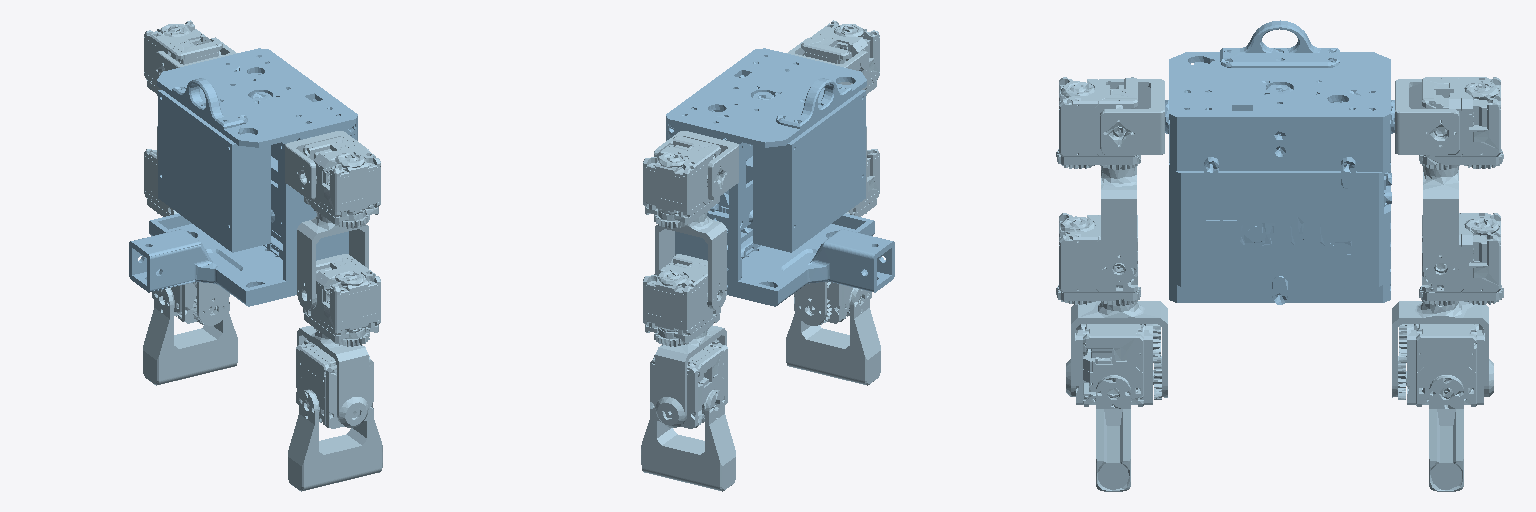
The robot description file, URDF, robot "toddlerbot_teleop":
<?xml version="1.0" ?><robot name="toddlerbot_teleop">  
  <link name="torso">    
    <visual>      
      <origin xyz="0 0 0" rpy="0 -0 0"/>      
      <geometry>        
        <mesh filename="package:///meshes/torso_visual.stl"/>        
      </geometry>      
      <material name="torso_material">        
        <color rgba="0.63866204066417398 0.79042612983052984443 0.89591918647189450198 1.0"/>        
      </material>      
    </visual>    
    <collision>      
      <origin xyz="0 0 0" rpy="0 -0 0"/>      
      <geometry>        
        <mesh filename="package:///meshes/torso_collision.stl"/>        
      </geometry>      
    </collision>    
    <inertial>      
      <origin xyz="-0.0025146157670445038607 -0.003462452547209261388 0.0655293959220907829" rpy="0 0 0"/>      
      <mass value="1.085065963101202513"/>      
      <inertia ixx="0.0028272039396820131119" ixy="7.4126802941129710614e-05" ixz="1.8774159564661221055e-05" iyy="0.002249597677268255682" iyz="-2.9332579430688765992e-05" izz="0.0023020777581455828011"/>      
    </inertial>    
  </link>  

  <link name="left_arm_teleop">    
    <visual>      
      <origin xyz="0 0 0" rpy="0 -0 0"/>      
      <geometry>        
        <mesh filename="package:///meshes/left_arm_teleop_visual.stl"/>        
      </geometry>      
      <material name="left_arm_teleop_material">        
        <color rgba="0.72664946328722046509 0.83742241919811932771 0.9009251939461877523 1.0"/>        
      </material>      
    </visual>    
    <collision>      
      <origin xyz="0 0 0" rpy="0 -0 0"/>      
      <geometry>        
        <mesh filename="package:///meshes/left_arm_teleop_collision.stl"/>        
      </geometry>      
    </collision>    
    <inertial>      
      <origin xyz="-0.00014075053043836245636 0.089050560746595022743 0.033791705246081417402" rpy="0 0 0"/>      
      <mass value="0.43420014698257969332"/>      
      <inertia ixx="0.0020359349426736844321" ixy="-8.4996609788529357328e-06" ixz="8.9716478000574520916e-08" iyy="0.00014184937718412328001" iyz="9.6209868953748555755e-05" izz="0.0019974400108921774172"/>      
    </inertial>    
  </link>  

  <joint name="left_sho_pitch" type="revolute">    
    <origin xyz="-0.0035000000000004762545 0.067000000000000961564 0.10423651076281736927" rpy="-1.5707963267949092145 6.9112556635015512211e-16 3.4723733359249325577e-14"/>    
    <parent link="torso"/>    
    <child link="left_arm_teleop"/>    
    <axis xyz="0 0 1"/>    
    <limit effort="1" velocity="20" lower="-3.141592653589793116" upper="1.570796326794896558"/>    
    <joint_properties friction="0.0"/>    
  </joint>  

  <link name="right_arm_teleop">    
    <visual>      
      <origin xyz="0 0 0" rpy="0 -0 0"/>      
      <geometry>        
        <mesh filename="package:///meshes/right_arm_teleop_visual.stl"/>        
      </geometry>      
      <material name="right_arm_teleop_material">        
        <color rgba="0.72664946328722035407 0.83742241919811932771 0.9009251939461877523 1.0"/>        
      </material>      
    </visual>    
    <collision>      
      <origin xyz="0 0 0" rpy="0 -0 0"/>      
      <geometry>        
        <mesh filename="package:///meshes/right_arm_teleop_collision.stl"/>        
      </geometry>      
    </collision>    
    <inertial>      
      <origin xyz="-0.00010323747753076321064 0.089050560746590595729 0.033791705265583518725" rpy="0 0 0"/>      
      <mass value="0.43420014698257969332"/>      
      <inertia ixx="0.0020359349426143217611" ixy="-1.0407004320276587653e-05" ixz="1.4658996238953558853e-07" iyy="0.00014185335124391491987" iyz="9.6209867943119488885e-05" izz="0.0019974439850108322361"/>      
    </inertial>    
  </link>  

  <joint name="right_sho_pitch" type="revolute">    
    <origin xyz="-0.0034999999999987077039 -0.067000000000001072586 0.10423651076281723049" rpy="-1.5707963267948896746 -1.3979005215161089346e-14 -3.141592653589758033"/>    
    <parent link="torso"/>    
    <child link="right_arm_teleop"/>    
    <axis xyz="0 0 1"/>    
    <limit effort="1" velocity="20" lower="-1.570796326794896558" upper="3.141592653589793116"/>    
    <joint_properties friction="0.0"/>    
  </joint>  


</robot>

--- What the picture shows (computed from the rendered views, not written in the file) ---
The picture shows the robot from 3 angles, left to right: view 1: azimuth 30°, elevation 25°; view 2: azimuth 150°, elevation 25°; view 3: azimuth 270°, elevation 25°; orthographic projection.
Robot: toddlerbot_teleop — 3 links, 2 joints (2 revolute); root link torso; default pose: every joint at zero.
Links seen in each view (by area): view 1: torso, right_arm_teleop, left_arm_teleop; view 2: torso, left_arm_teleop, right_arm_teleop; view 3: torso, left_arm_teleop, right_arm_teleop.
Link boxes in pixels (x1,y1,x2,y2): torso: (129, 48, 357, 306); right_arm_teleop: (285, 131, 382, 491); left_arm_teleop: (143, 20, 237, 385); torso: (666, 48, 894, 306); left_arm_teleop: (641, 131, 738, 491); right_arm_teleop: (786, 20, 880, 385); torso: (1165, 20, 1394, 304); left_arm_teleop: (1392, 77, 1503, 491); right_arm_teleop: (1056, 77, 1167, 491).
Size in the robot's own frame: 0.141 by 0.2617 by 0.2664 metres.
Meshes: 3 distinct files referenced, 3 mesh visuals loaded (3 binary STL).